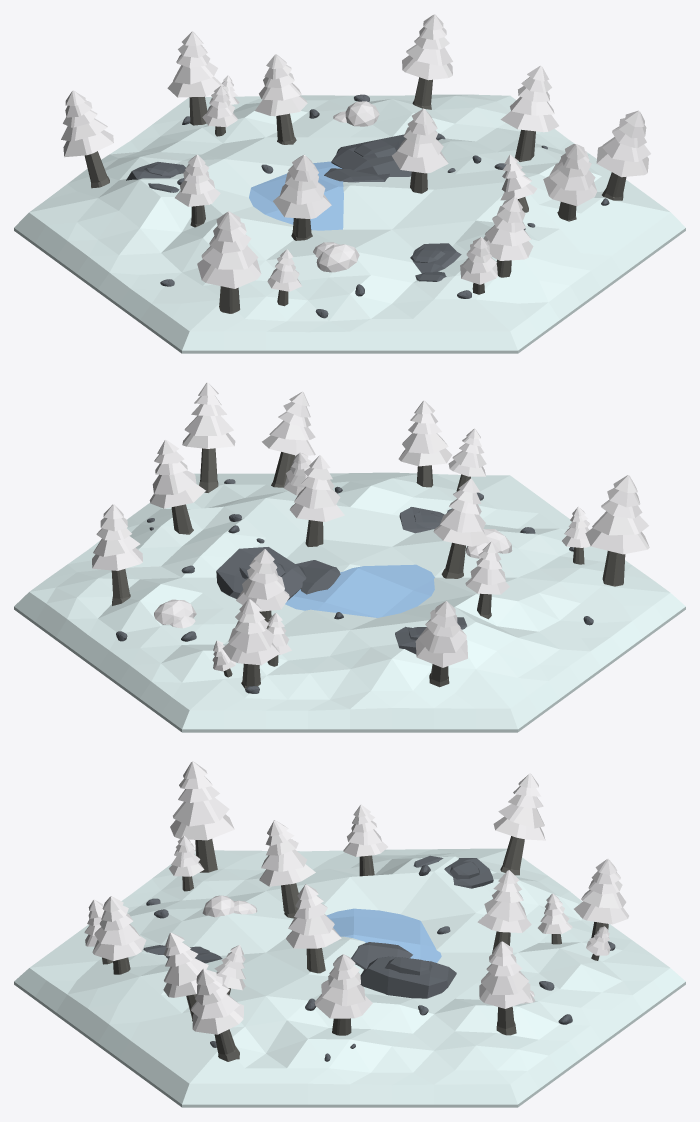
File: tundra.glb
3 views of the same model, one above another, from view 1: azimuth 30°, elevation 25°; view 2: azimuth 150°, elevation 25°; view 3: azimuth 270°, elevation 25° (orthographic).
Visible parts, largest first — view 1: land, big_details, small_details; view 2: land, big_details, small_details; view 3: land, big_details, small_details.
Boxes of the visible parts, x1,y1,x2,y2 form: land: (14,94,685,353); big_details: (61,14,650,313); small_details: (160,94,609,318); land: (14,472,685,732); big_details: (92,382,649,688); small_details: (116,479,593,693); land: (14,848,685,1107); big_details: (84,761,628,1061); small_details: (146,864,615,1061).
Bounding box in the file's own units: 1.73 × 0.4128 × 2.
